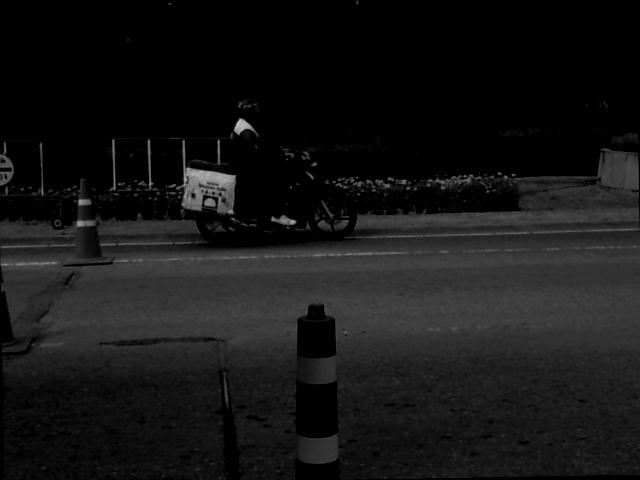helmet: (235, 93, 261, 123)
motor: (180, 136, 357, 241)
person: (228, 96, 296, 225)
